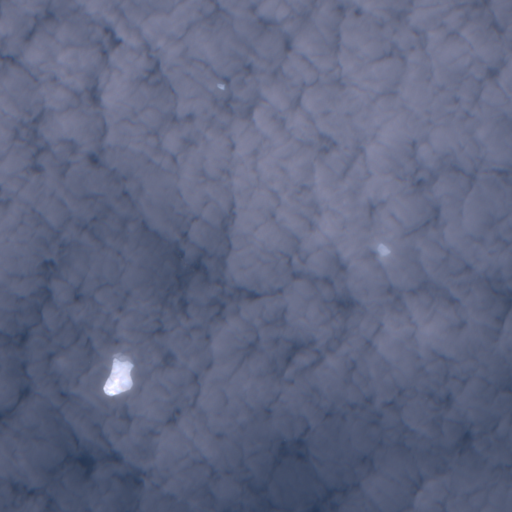Iceberg: (103, 358, 133, 396), (377, 244, 390, 255), (217, 84, 224, 89)
